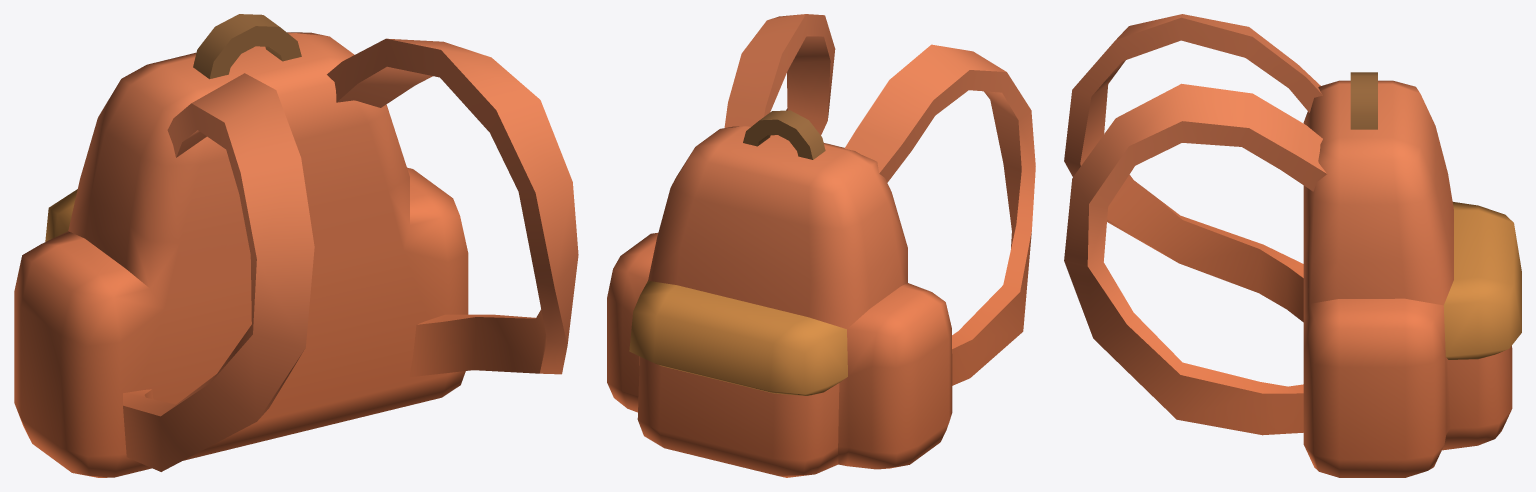
Rendered from Bag_3.fbx.
3 views of the same model, side by side, from view 1: azimuth 30°, elevation 25°; view 2: azimuth 150°, elevation 25°; view 3: azimuth 270°, elevation 25° (orthographic). The views are drawn at different scales.
Parts seen in each view (by area): view 1: Bag_3; view 2: Bag_3; view 3: Bag_3.
Part boxes in pixels (box(x1,y1,x2,y2)): Bag_3: box(14, 14, 578, 477); Bag_3: box(607, 14, 1035, 477); Bag_3: box(1064, 14, 1521, 477).
Bounding box in the file's own units: 46.01 × 47.79 × 55.04.
